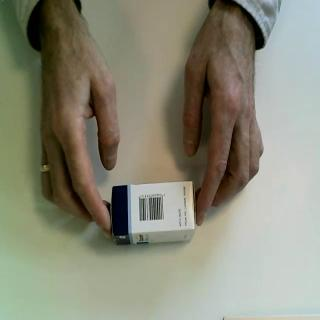xanor2mg: (110, 179, 198, 248)
